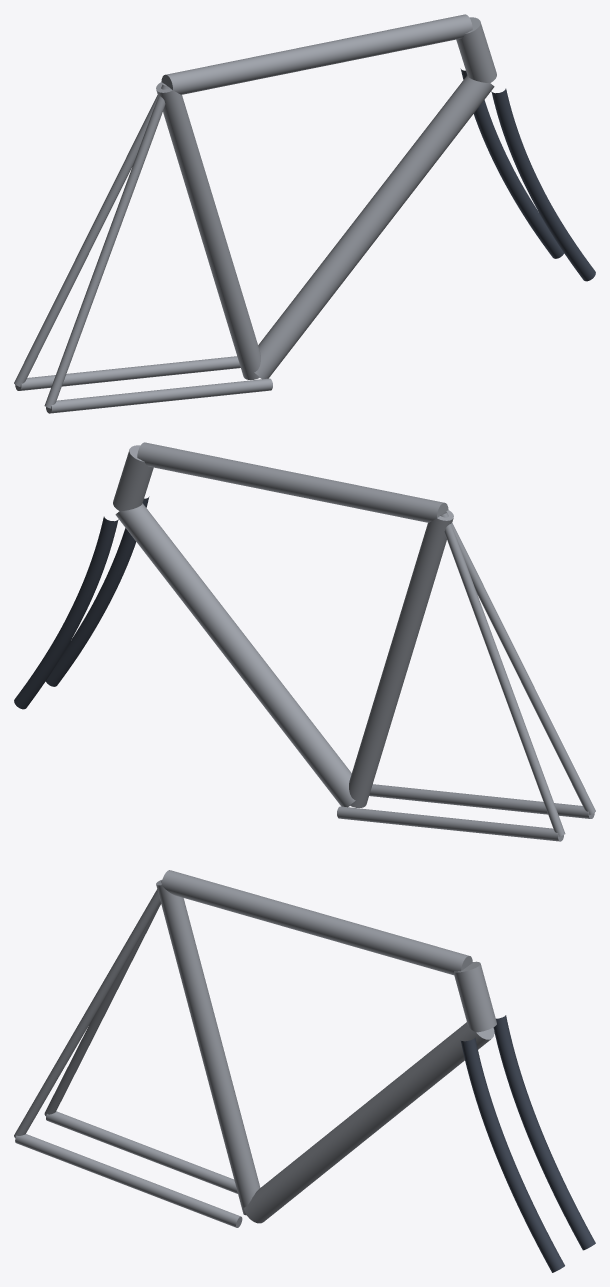
Rendered from cinelli-vigorelli-rainbow-xs.glb.
3 views of the same model, one above another, from view 1: azimuth 30°, elevation 25°; view 2: azimuth 150°, elevation 25°; view 3: azimuth 330°, elevation 25° (orthographic).
Parts seen in each view (by area): view 1: paint_down, paint_top, paint_seat, paint_seatstay_0.045, fork_0.045, paint_seatstay_-0.045, paint_chainstay_0.045, paint_chainstay_-0.045, fork_-0.045, paint_head; view 2: paint_down, paint_top, paint_seat, paint_seatstay_-0.045, fork_-0.045, paint_seatstay_0.045, paint_chainstay_-0.045, paint_chainstay_0.045, fork_0.045, paint_head; view 3: paint_down, paint_seat, paint_top, fork_0.045, fork_-0.045, paint_chainstay_0.045, paint_seatstay_0.045, paint_chainstay_-0.045, paint_head, paint_seatstay_-0.045.
Boxes of the visible parts, x1,y1,x2,y2 form: paint_down: (254, 75, 494, 379); paint_top: (161, 14, 472, 94); paint_seat: (156, 82, 260, 379); paint_seatstay_0.045: (44, 85, 169, 408); fork_0.045: (491, 88, 595, 281); paint_seatstay_-0.045: (14, 83, 166, 386); paint_chainstay_0.045: (46, 378, 272, 413); paint_chainstay_-0.045: (15, 356, 240, 390); fork_-0.045: (460, 68, 564, 258); paint_head: (456, 17, 496, 83); paint_down: (115, 503, 355, 807); paint_top: (137, 442, 448, 522); paint_seat: (349, 510, 453, 807); paint_seatstay_-0.045: (440, 513, 565, 836); fork_-0.045: (14, 516, 118, 709); paint_seatstay_0.045: (443, 511, 595, 814); paint_chainstay_-0.045: (337, 806, 563, 841); paint_chainstay_0.045: (369, 784, 594, 818); fork_0.045: (45, 496, 149, 686); paint_head: (113, 445, 153, 511); paint_down: (243, 1022, 494, 1223); paint_seat: (156, 879, 260, 1215); paint_top: (161, 870, 472, 975); fork_0.045: (460, 1037, 564, 1272); fork_-0.045: (493, 1015, 595, 1250); paint_chainstay_0.045: (15, 1134, 242, 1227); paint_seatstay_0.045: (14, 881, 161, 1137); paint_chainstay_-0.045: (46, 1111, 237, 1193); paint_head: (454, 961, 496, 1032); paint_seatstay_-0.045: (44, 902, 160, 1115).
Bounding box in the file's own units: 0.9294 × 0.5304 × 0.112.
